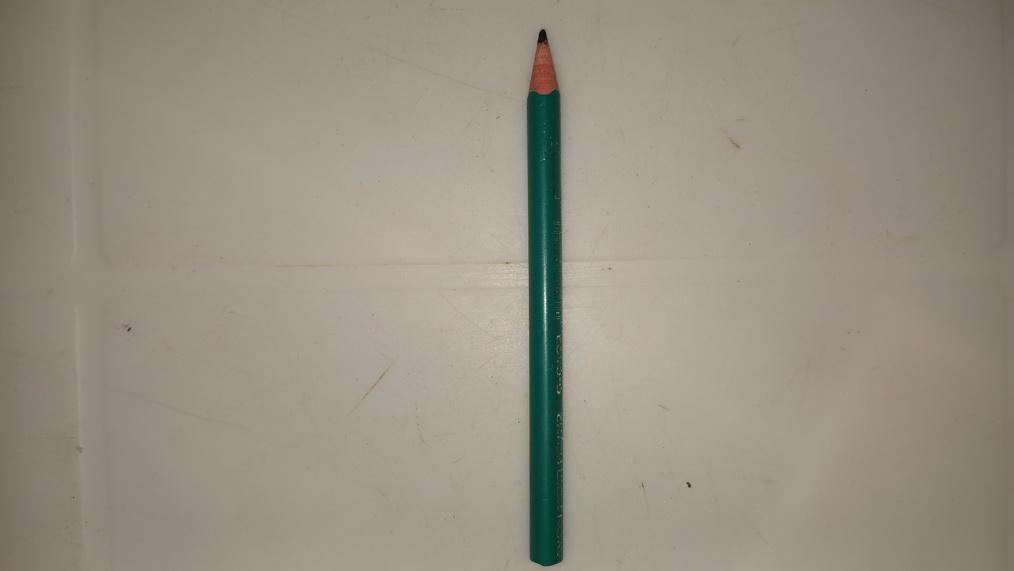Pencil: (528, 26, 563, 566)
